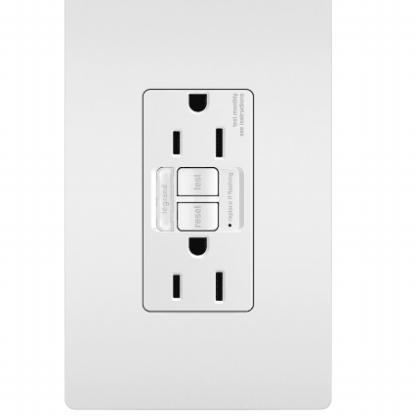OUTLET: (63, 0, 330, 412)
